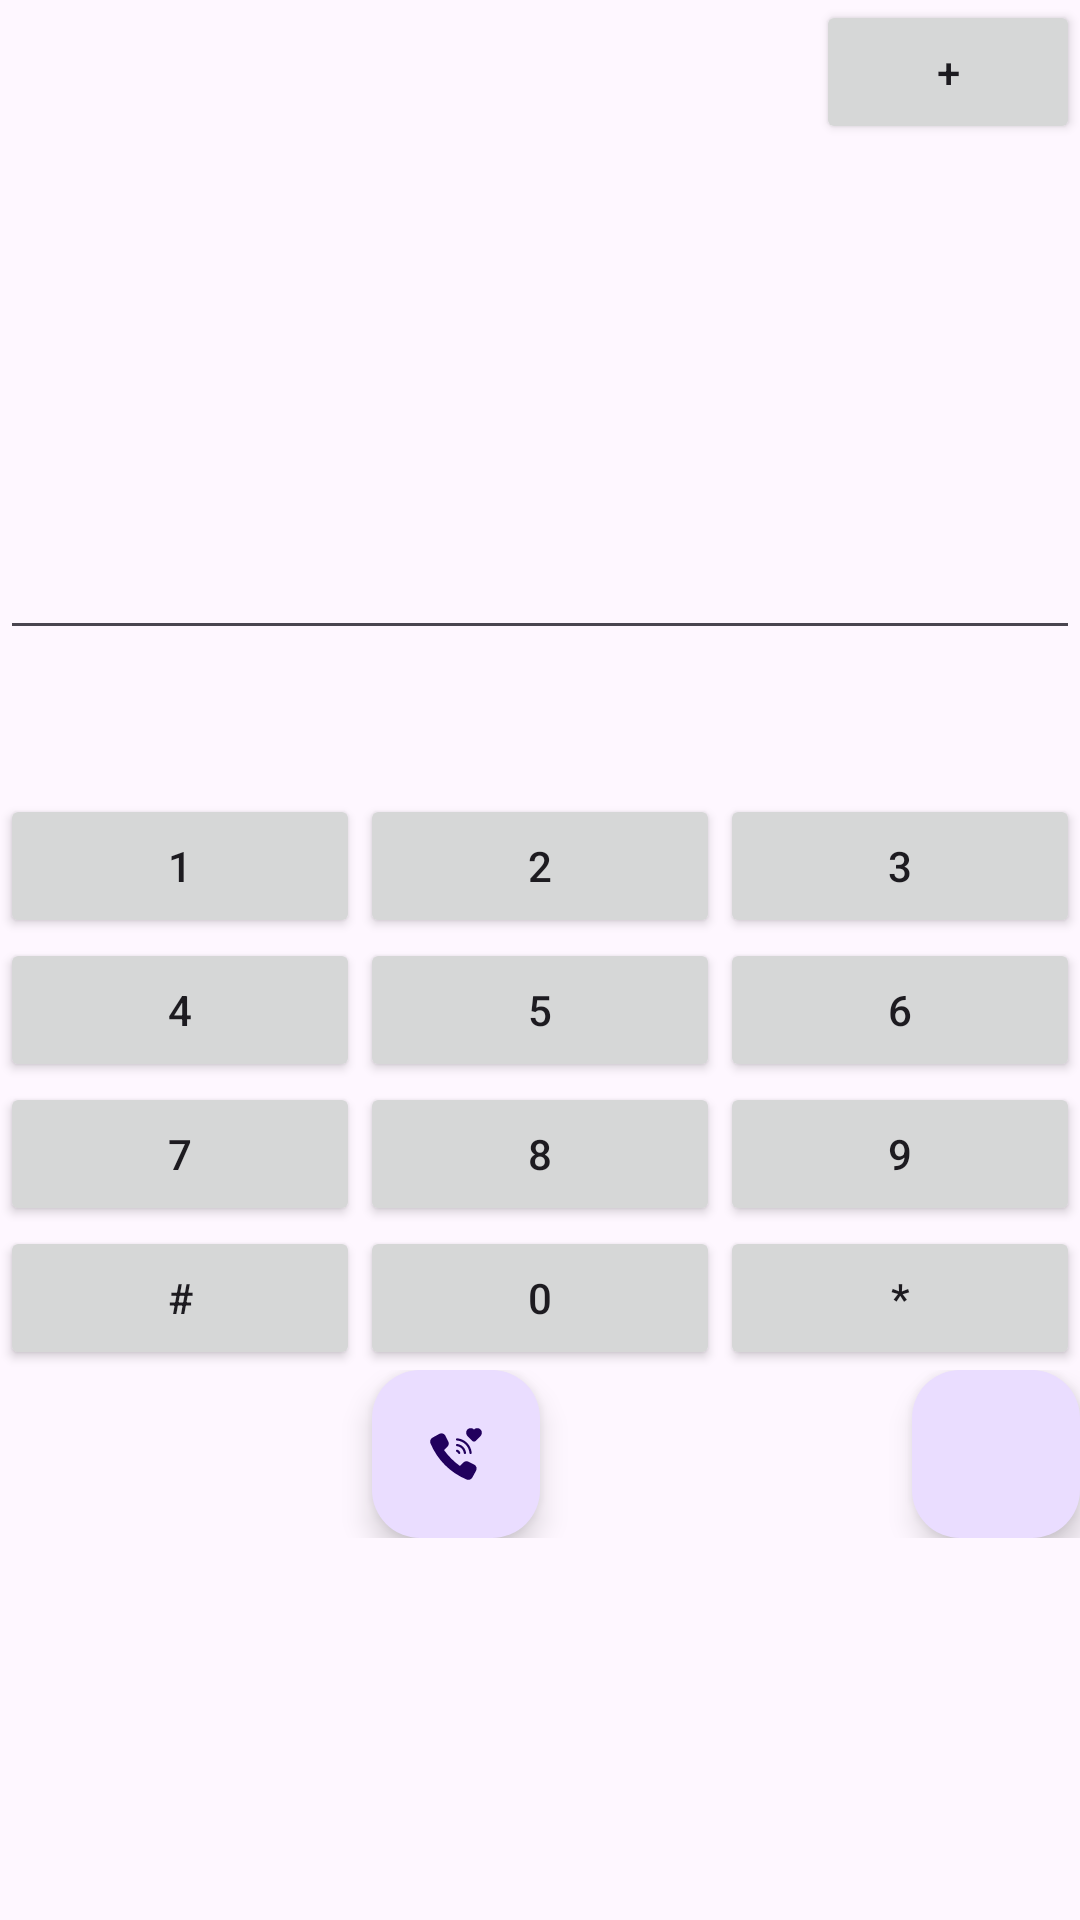

Screen size 1080 × 1920. Icon name, then its box in pixels as region(x1, y1, x2, y2):
call phone heart: region(372, 1370, 540, 1538)
